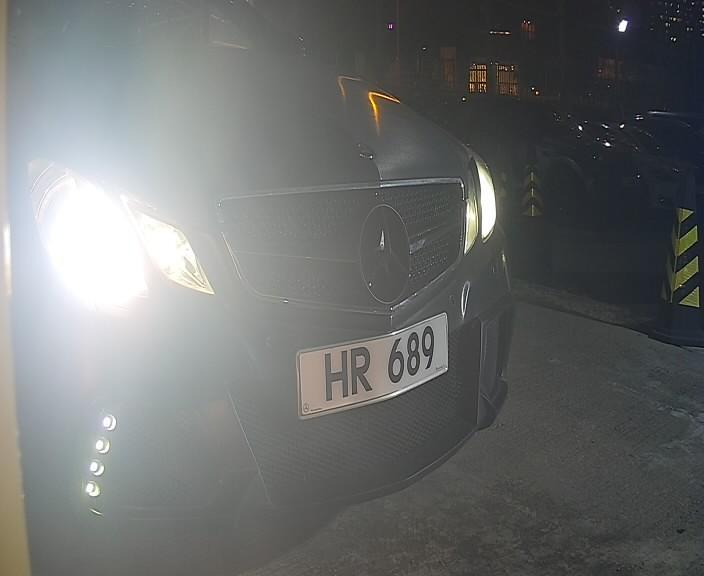License Plate: (299, 309, 450, 415)
